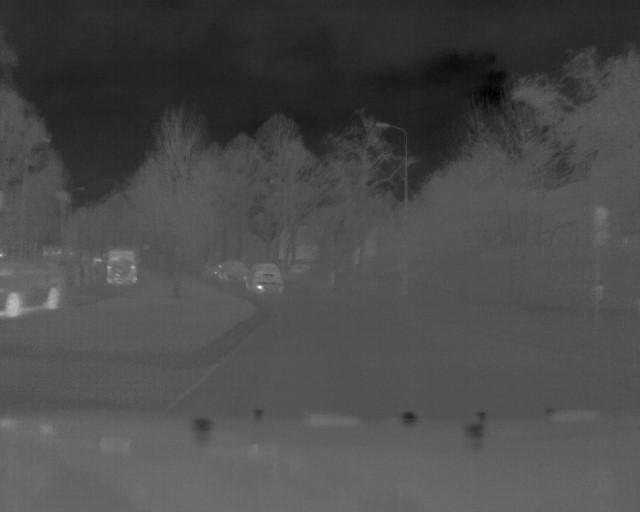car: (1, 255, 68, 319), (99, 247, 146, 288), (244, 260, 287, 297)
